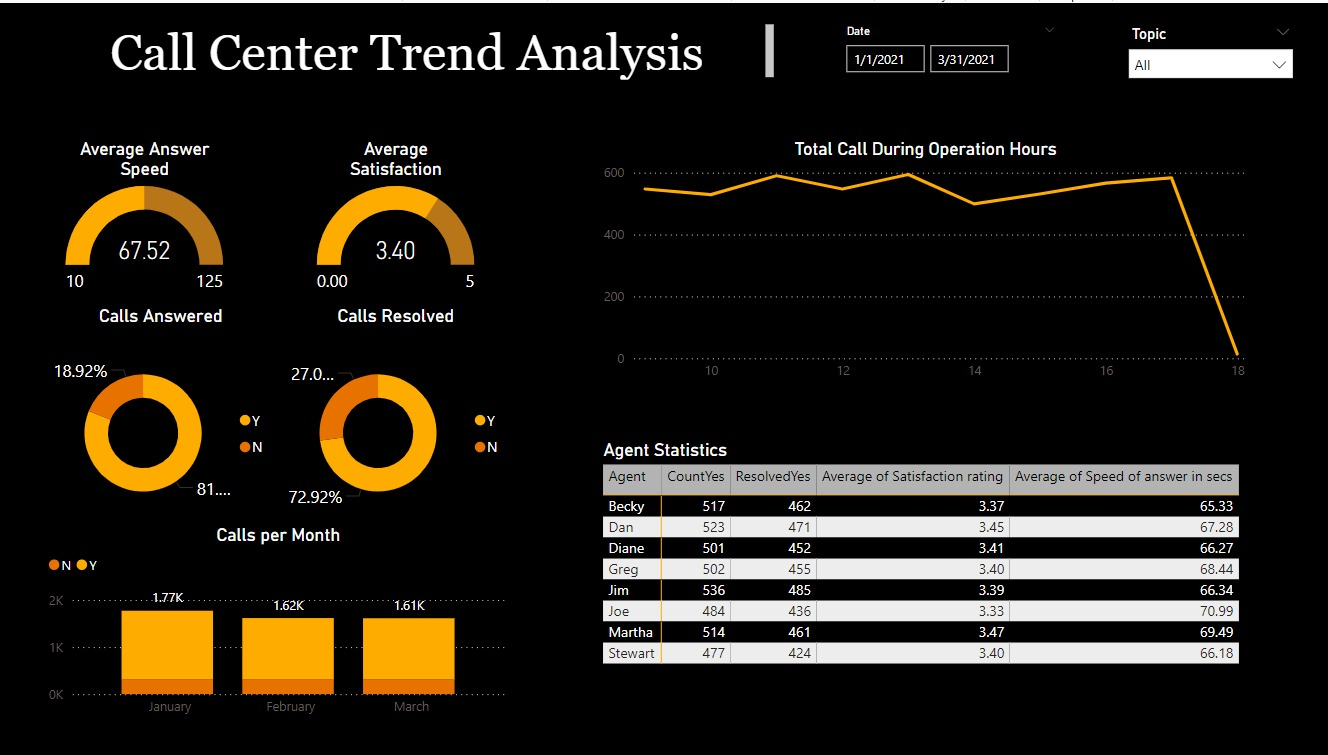

Layout of this report page (visuals, bound fields, positions):
{"tool":"powerbi","page":{"name":"Call Center Trend Analysis Dasboard","canvas":[1280,720],"ordinal":0},"visuals":[{"type":"basicShape","box":[32,96,1216,32],"z":0},{"type":"basicShape","box":[16,112,1248,592],"z":1000},{"type":"gauge","title":"Average Satisfaction","fields":{"Y":["Sheet1.Satisfaction rating"],"MaxValue":["Sum(Sheet1.Satisfaction rating)1"]},"box":[304,128,160,160],"z":2000},{"type":"donutChart","title":"Calls Answered","fields":{"Y":["Sheet1.Answered (Y/N)"],"Category":["Sheet1.Answered (Y/N)"]},"box":[48,288,224,224],"z":3000},{"type":"lineChart","title":"Total Call During Operation Hours","fields":{"Category":["Sheet1.Hour"],"Y":["Sheet1.Call Id"]},"box":[576,128,624,240],"z":4000},{"type":"gauge","title":"Average Answer Speed","fields":{"Y":["Sheet1.Speed of answer in secs"],"MaxValue":["Sheet1.Speed of answer in secs"],"MinValue":["Sum(Sheet1.Speed of answer in secs)1"]},"box":[64,128,160,160],"z":5000},{"type":"donutChart","title":"Calls Resolved","fields":{"Y":["Sheet1.Resolved"],"Category":["Sheet1.Resolved"]},"box":[272,288,224,224],"z":6000},{"type":"columnChart","title":"Calls per Month","fields":{"Category":["Sheet1.Date.Variation.Date Hierarchy.Month"],"Series":["Sheet1.Answered (Y/N)"],"Y":["Sheet1.Call Id"]},"box":[48,496,448,192],"z":7000},{"type":"pivotTable","title":"Agent Statistics","fields":{"Rows":["Sheet1.Agent"],"Values":["Sheet1.CountYes","Sheet1.ResolvedYes","Sheet1.Satisfaction rating","Sheet1.Speed of answer in secs"]},"box":[576,416,624,272],"z":8000},{"type":"slicer","fields":{"Values":["Sheet1.Date"]},"box":[800,16,224,80],"z":9000},{"type":"slicer","fields":{"Values":["Sheet1.Topic"]},"box":[1072,16,176,80],"z":10000},{"type":"textbox","box":[47.7,15.6,701.3,62.2],"z":11000}]}

Visuals, with their boxes in screenshot pixels (x1, y1, x2, y2), scaled from the page's 1280x720 canvas onto the 1328x755 screenshot:
basicShape: BBox(33, 101, 1295, 134)
basicShape: BBox(17, 117, 1311, 738)
"Average Satisfaction" gauge: BBox(315, 134, 481, 302)
"Calls Answered" donutChart: BBox(50, 302, 282, 537)
"Total Call During Operation Hours" lineChart: BBox(598, 134, 1245, 386)
"Average Answer Speed" gauge: BBox(66, 134, 232, 302)
"Calls Resolved" donutChart: BBox(282, 302, 515, 537)
"Calls per Month" columnChart: BBox(50, 520, 515, 721)
"Agent Statistics" pivotTable: BBox(598, 436, 1245, 721)
slicer - Sheet1.Date: BBox(830, 17, 1062, 101)
slicer - Sheet1.Topic: BBox(1112, 17, 1295, 101)
textbox: BBox(49, 16, 777, 82)
